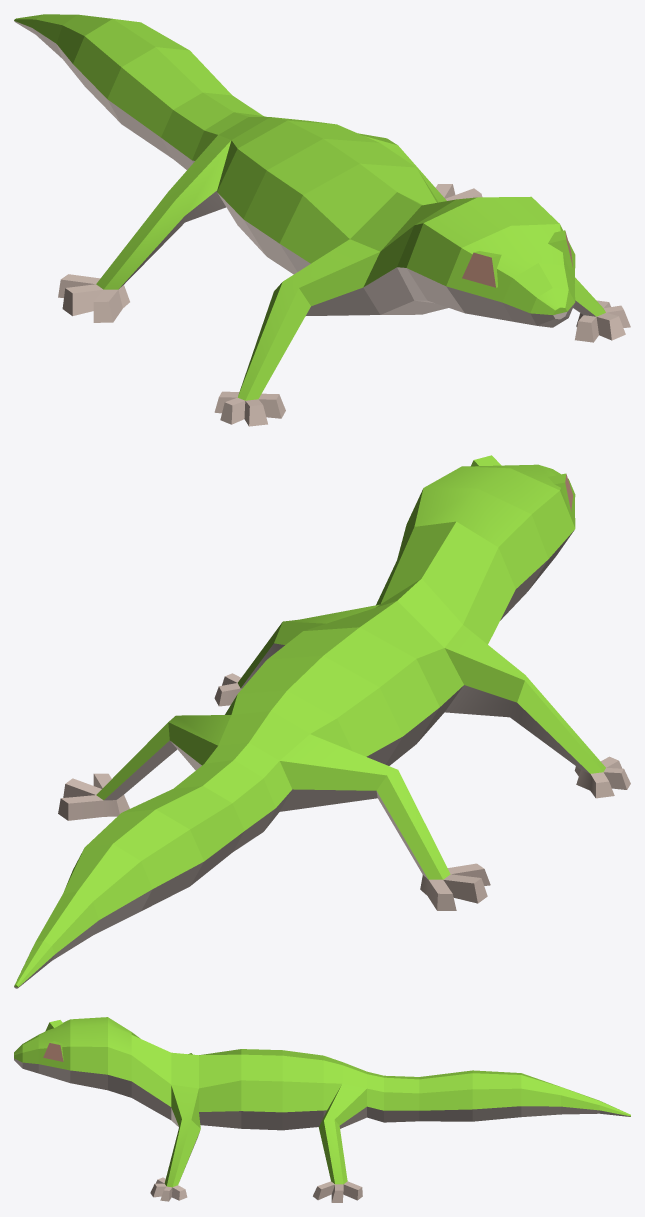
File: Mesh_Gecko.obj
The picture shows the model from 3 angles, top to bottom: view 1: azimuth 30°, elevation 25°; view 2: azimuth 150°, elevation 25°; view 3: azimuth 270°, elevation 25°; orthographic projection. The views are drawn at different scales.
Parts seen in each view (by area): view 1: Geo_Gecko; view 2: Geo_Gecko; view 3: Geo_Gecko.
Boxes of the visible parts, x1,y1,x2,y2 form: Geo_Gecko: [14, 14, 630, 426]; Geo_Gecko: [14, 455, 630, 988]; Geo_Gecko: [14, 1017, 630, 1202].
Bounding box in the file's own units: 54.11 × 26.48 × 123.
Materials: 1 (1 with a texture image).
